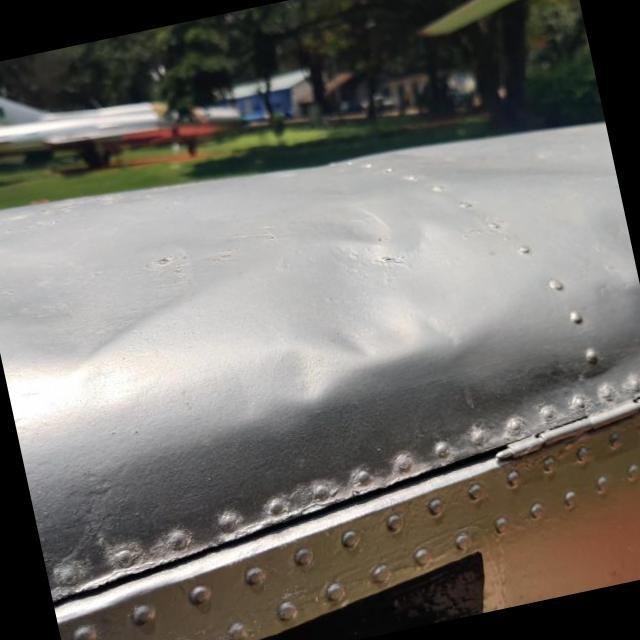Dent: (199, 150, 546, 459)
